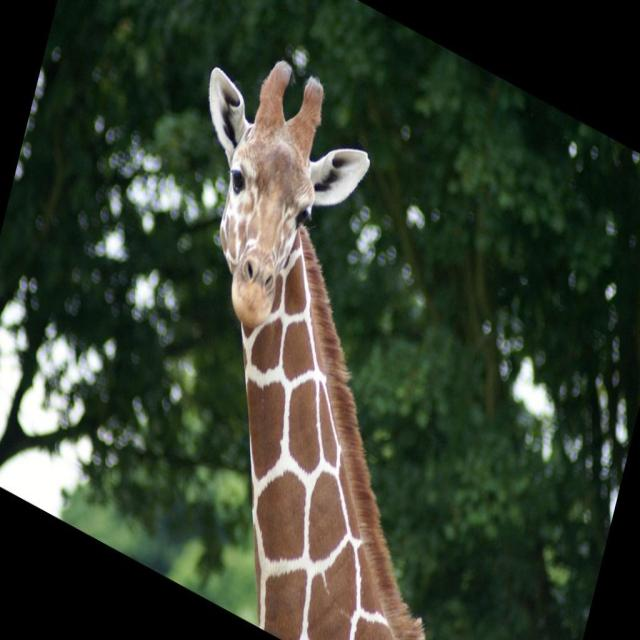Giraffe: (198, 44, 451, 637)
